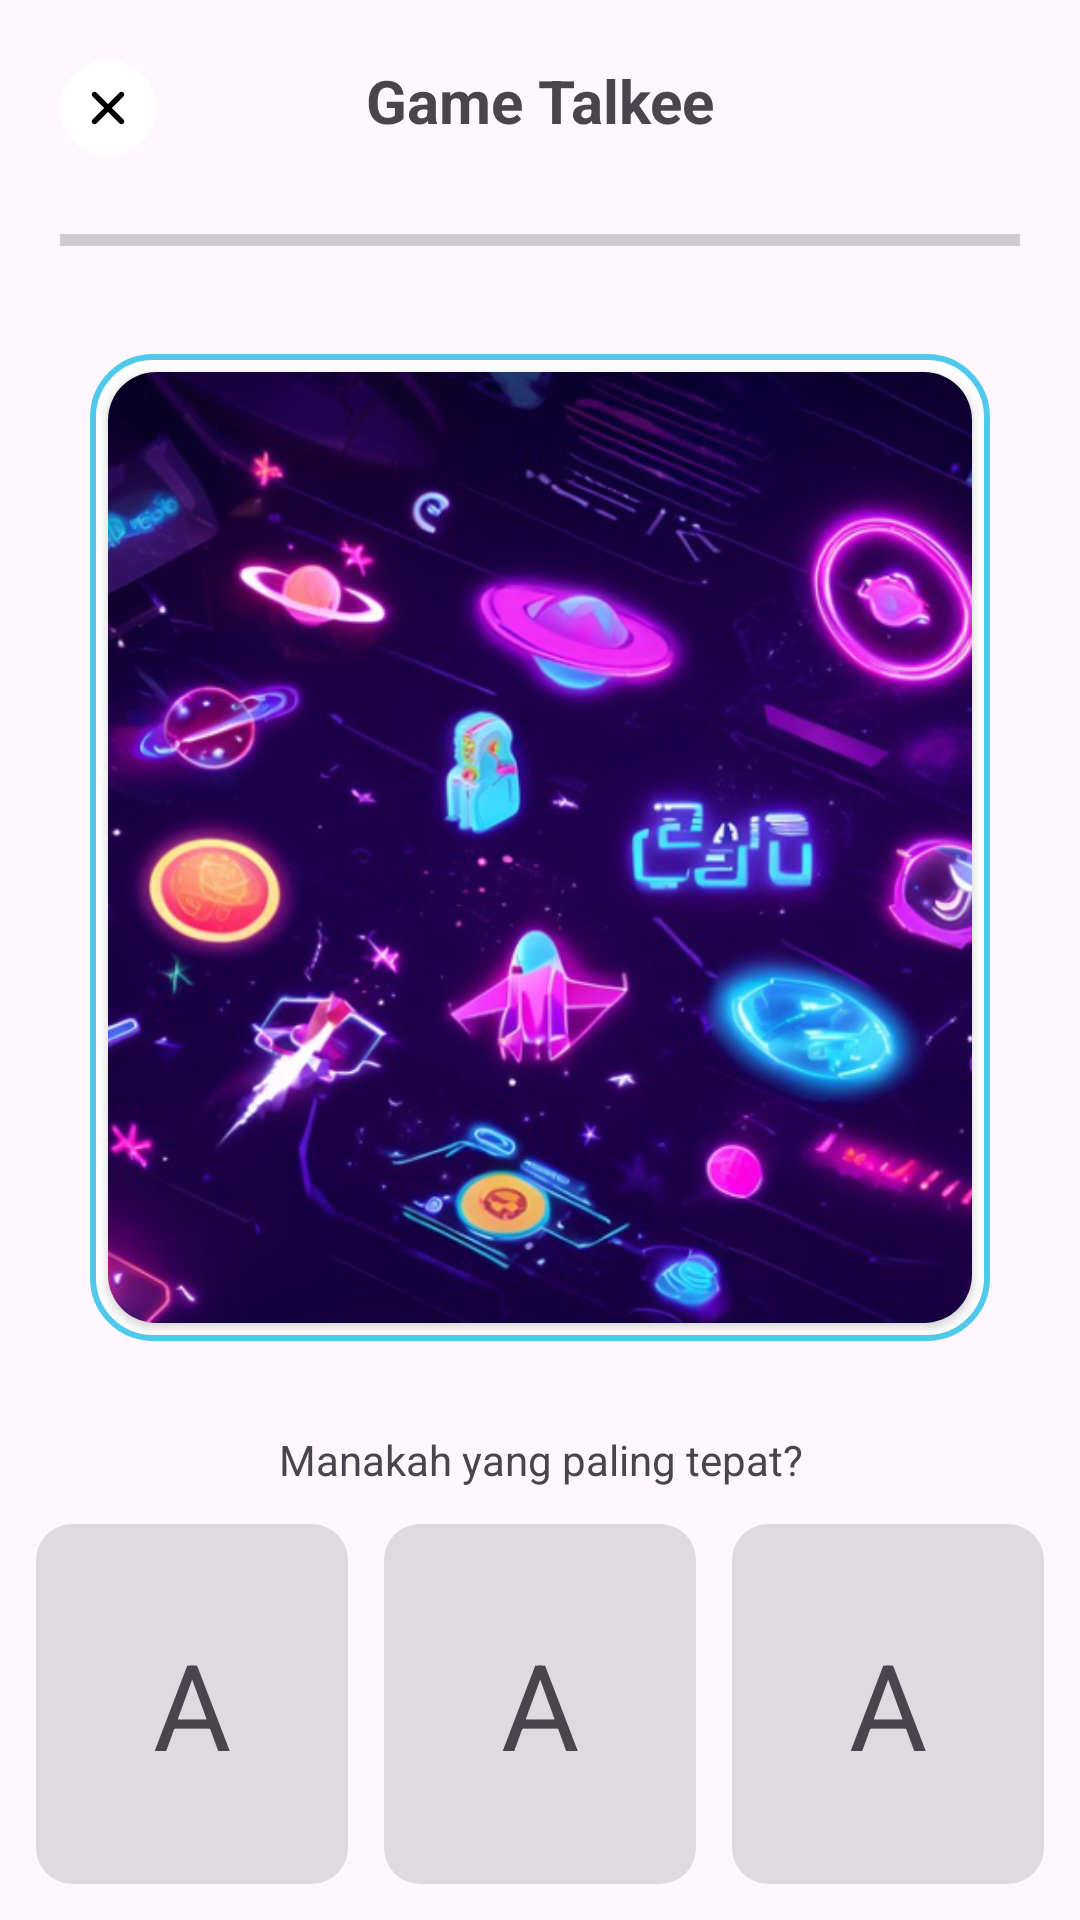

Icon bounding boxes for this 1080px×1920px phone screenshot, format Rect(x1, y1, x2, y2):
close: Rect(91, 91, 125, 125)
